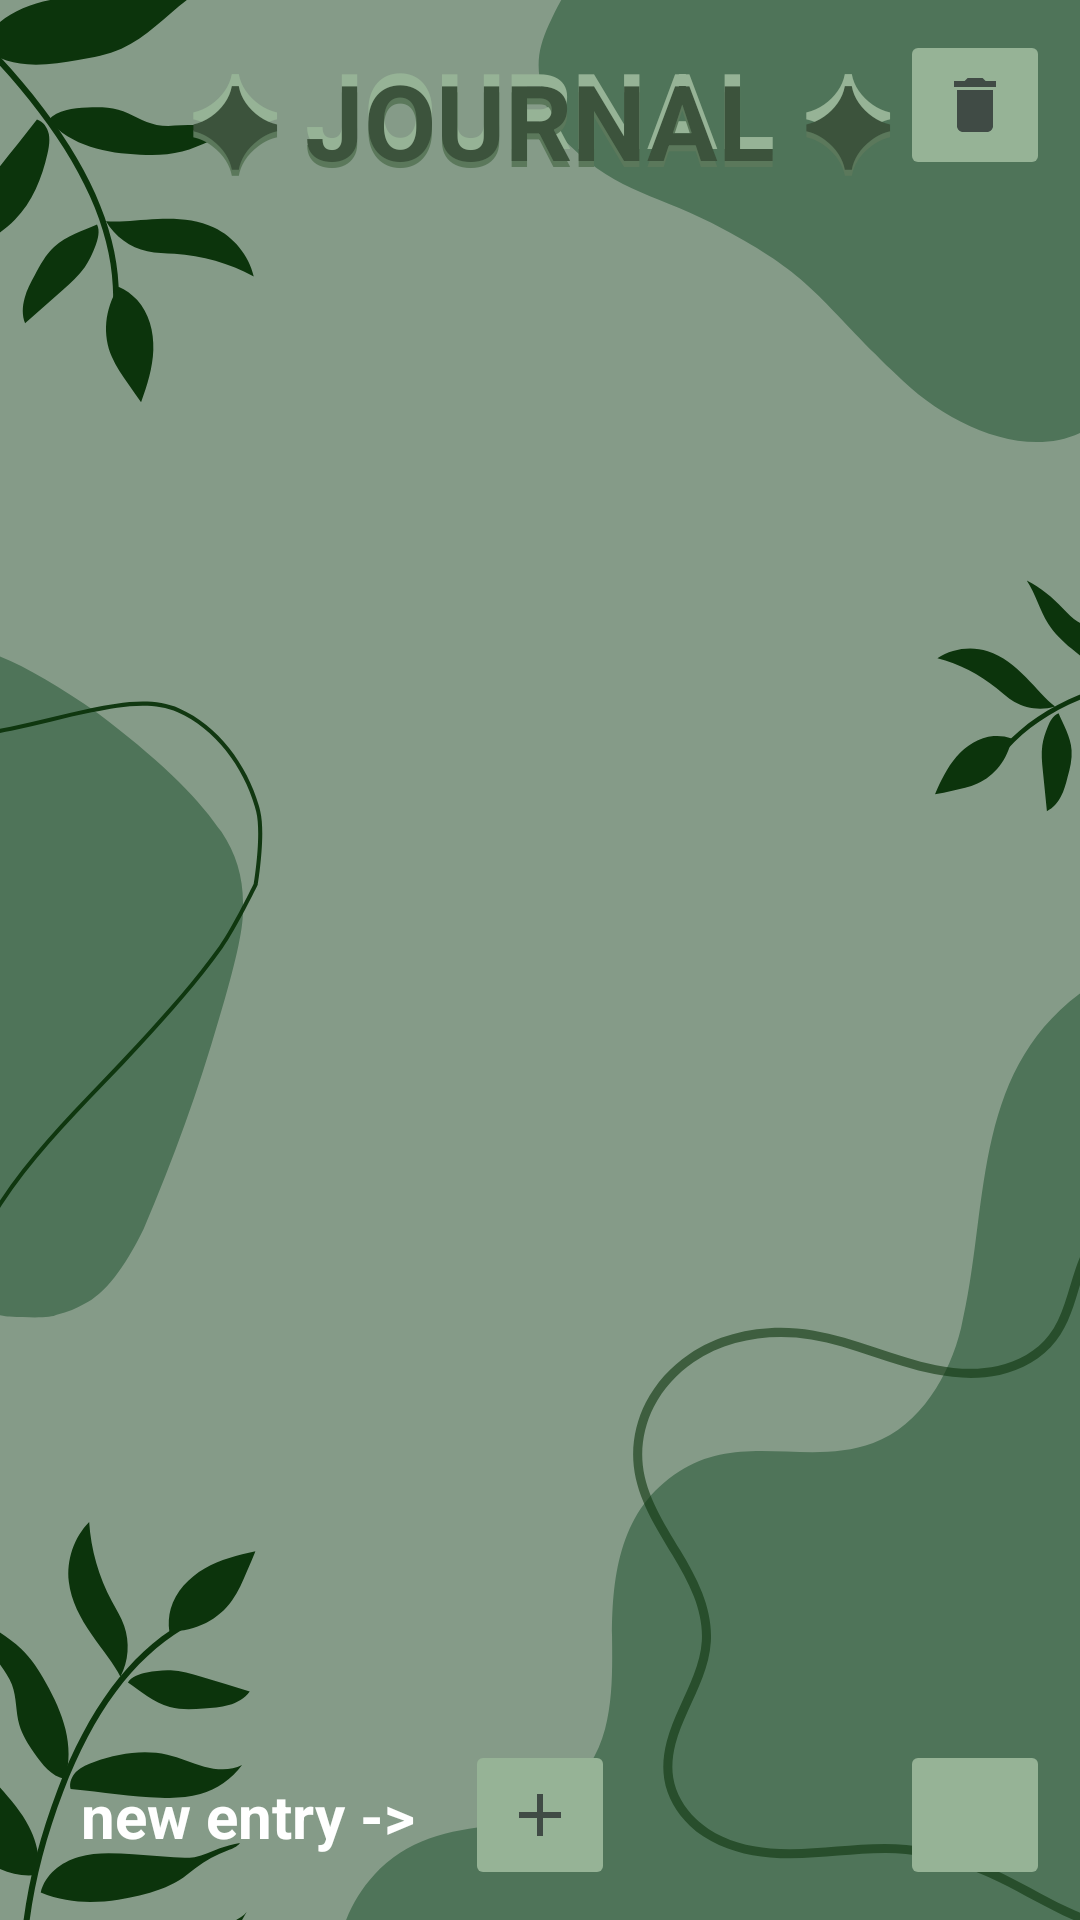

Where to tap for icons on this 1080x1920 app screen, as point (x, y):
add: point (534, 1806)
delete: point (975, 105)
